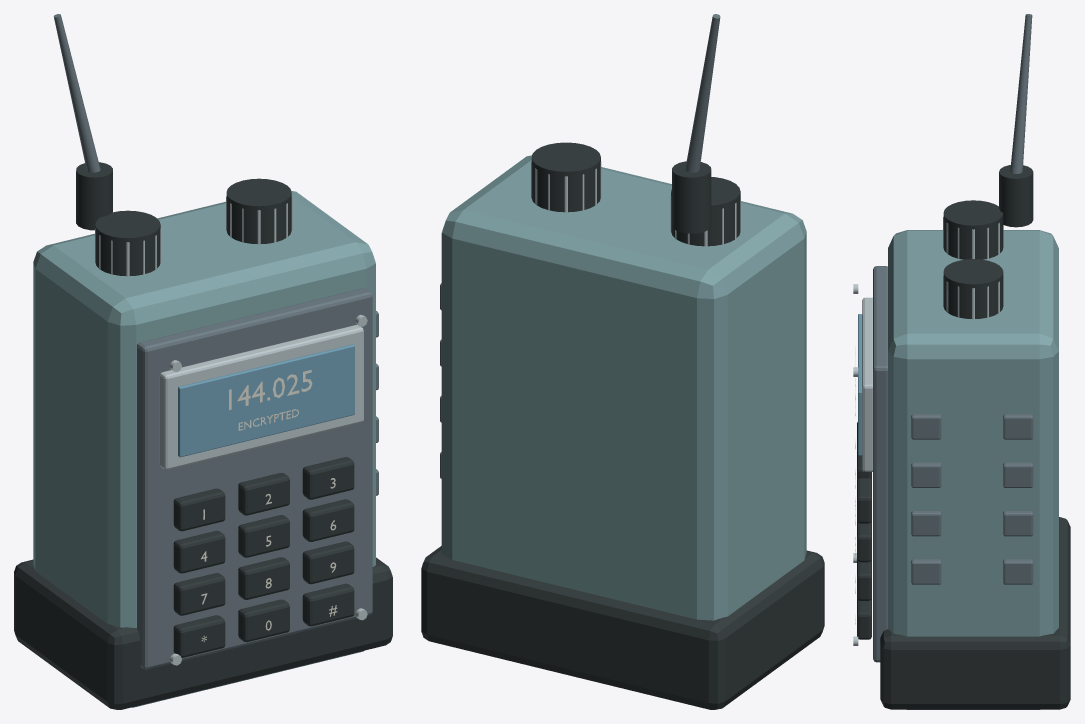
Rendered from loot_radio.glb.
3 renders of one model, left to right at view 1: azimuth 30°, elevation 25°; view 2: azimuth 150°, elevation 25°; view 3: azimuth 270°, elevation 25°, orthographic. The views are drawn at different scales.
Parts seen in each view (by area): view 1: loot_radio; view 2: loot_radio; view 3: loot_radio.
Part boxes in pixels (x1,y1,x2,y2): loot_radio: (14, 14, 392, 709); loot_radio: (421, 14, 824, 709); loot_radio: (853, 14, 1070, 709).
Bounding box in the file's own units: 0.141 × 0.3053 × 0.1017.
